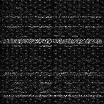lte: (1, 38, 104, 44), (1, 94, 104, 98), (1, 24, 104, 28)
